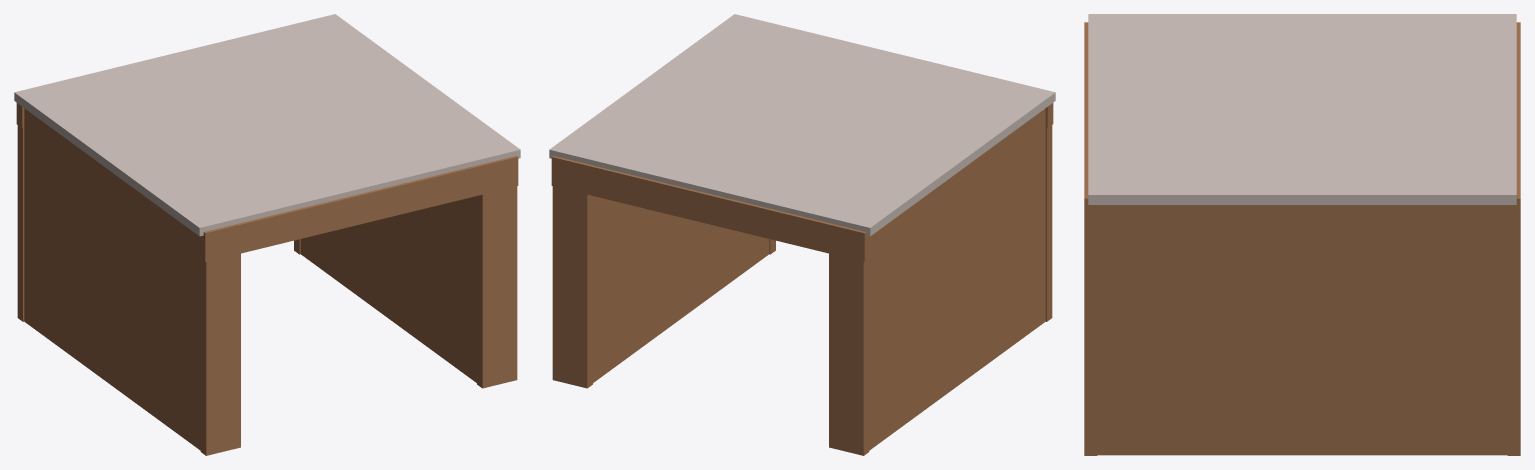
File: Candyland_WaferTunnel_Simple.glb
The picture shows the model from 3 angles, left to right: view 1: azimuth 30°, elevation 25°; view 2: azimuth 150°, elevation 25°; view 3: azimuth 270°, elevation 25°; orthographic projection. The views are drawn at different scales.
Parts seen in each view (by area): view 1: Candyland_WaferTunnel_Simple; view 2: Candyland_WaferTunnel_Simple; view 3: Candyland_WaferTunnel_Simple.
Boxes of the visible parts, x1,y1,x2,y2 form: Candyland_WaferTunnel_Simple: [14, 14, 520, 455]; Candyland_WaferTunnel_Simple: [549, 14, 1055, 455]; Candyland_WaferTunnel_Simple: [1084, 14, 1520, 455].
Size of the model in its own units: 3.95 by 2.68 by 4.02.
